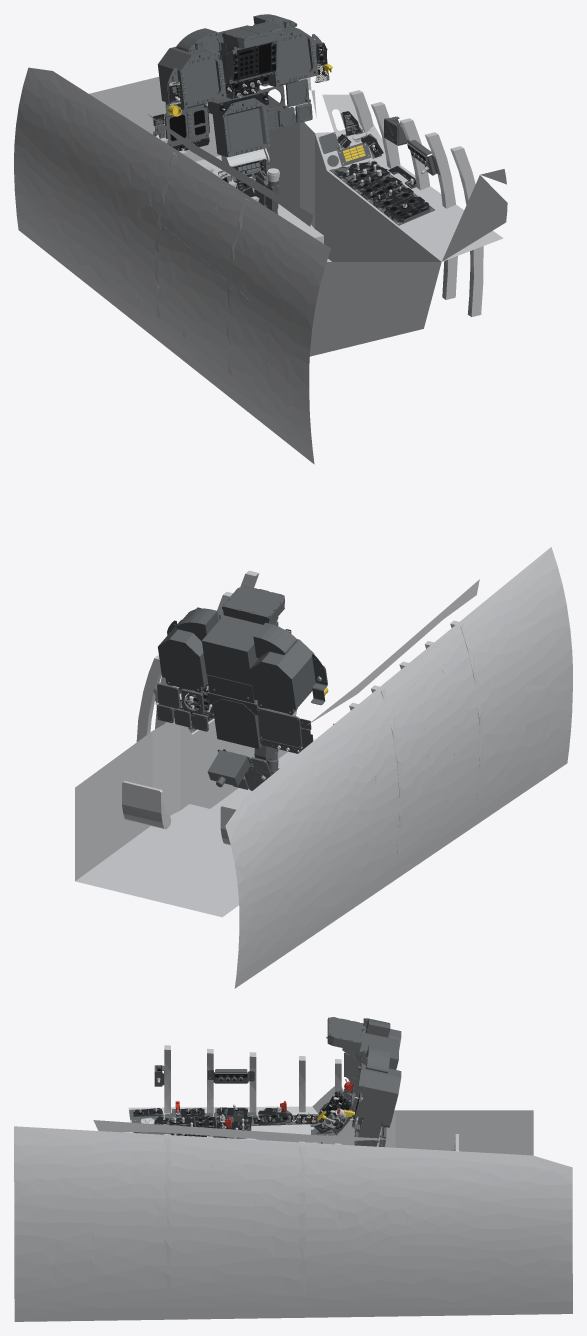
File: cockpit.glb
3 renders of one model, top to bottom at view 1: azimuth 30°, elevation 25°; view 2: azimuth 150°, elevation 25°; view 3: azimuth 270°, elevation 25°, orthographic. The views are drawn at different scales.
Visible parts, largest first — view 1: static_metal, static_panel, L_OH1A8A1_114_UFC_LEGEND_PLATE, L_OH2A2A1A2_12_IFEI_LEGEND_PLATE; view 2: static_metal, static_panel; view 3: static_metal, static_panel, L_OH4A7A1_13_COMM_PANEL_LEGEND_PLATE, L_OH4A3A1_13_SELECT_JETT_LEGEND_PLATE.
Boxes of the visible parts, x1=… form: static_metal: x1=14, y1=67, x2=507, y2=464; static_panel: x1=153, y1=14, x2=440, y2=225; L_OH1A8A1_114_UFC_LEGEND_PLATE: x1=232, y1=42, x2=276, y2=81; L_OH2A2A1A2_12_IFEI_LEGEND_PLATE: x1=169, y1=104, x2=209, y2=141; static_metal: x1=75, y1=547, x2=572, y2=988; static_panel: x1=153, y1=586, x2=327, y2=790; static_metal: x1=14, y1=1045, x2=572, y2=1321; static_panel: x1=129, y1=1017, x2=401, y2=1146; L_OH4A7A1_13_COMM_PANEL_LEGEND_PLATE: x1=169, y1=1115, x2=216, y2=1136; L_OH4A3A1_13_SELECT_JETT_LEGEND_PLATE: x1=319, y1=1091, x2=350, y2=1129.
Size of the model in its own units: 1.05 by 1.03 by 2.16.
Materials: 43 (36 with a texture image).
